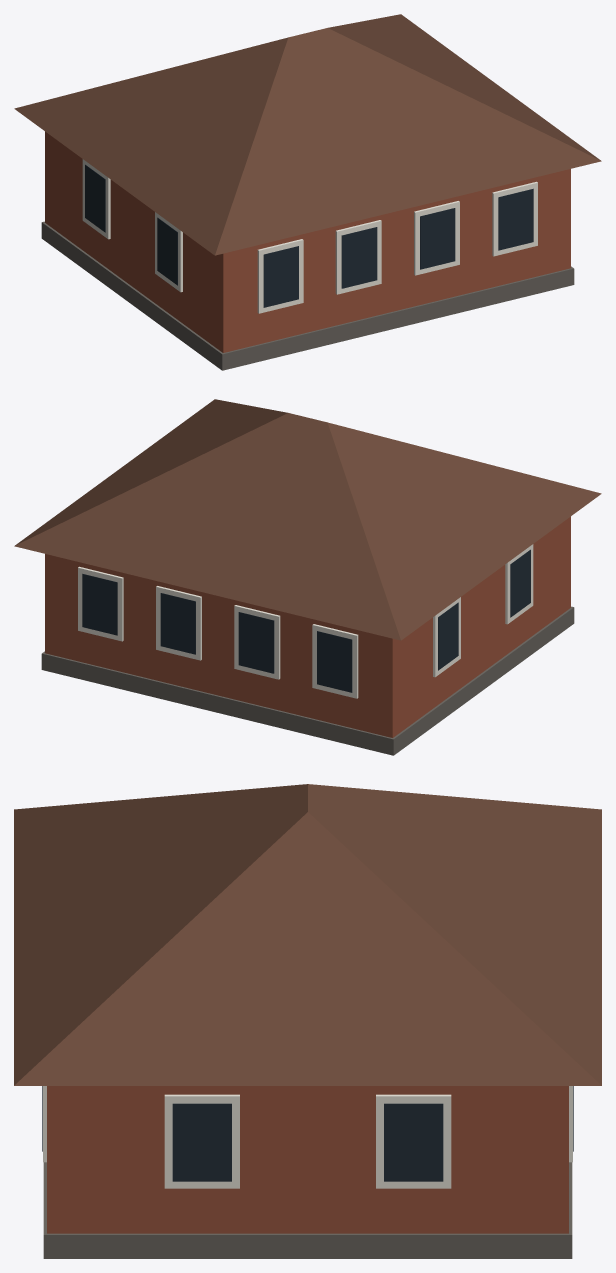
The model's file is brick_house.glb.
3 renders of one model, top to bottom at view 1: azimuth 30°, elevation 25°; view 2: azimuth 150°, elevation 25°; view 3: azimuth 270°, elevation 25°, orthographic. The views are drawn at different scales.
Visible parts, largest first — view 1: brick_house; view 2: brick_house; view 3: brick_house.
Boxes of the visible parts, box(x1,y1,x2,y2) form: brick_house: box(14, 14, 601, 370); brick_house: box(14, 399, 601, 755); brick_house: box(14, 784, 601, 1258).
Size of the model in its own units: 9.9 by 5.6 by 8.9.
